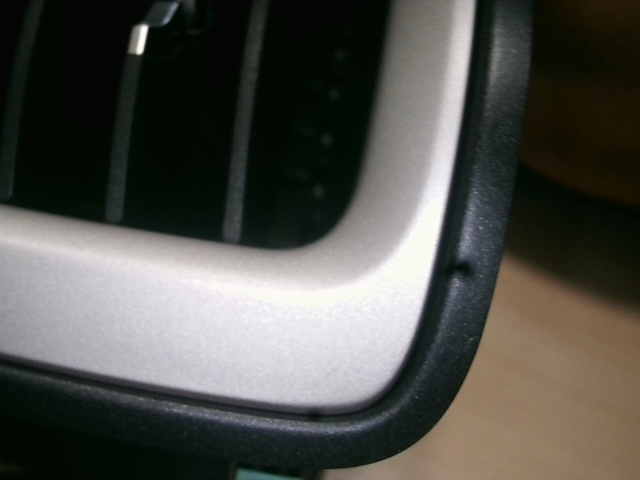NG: (316, 361, 345, 382), (463, 330, 480, 351)
